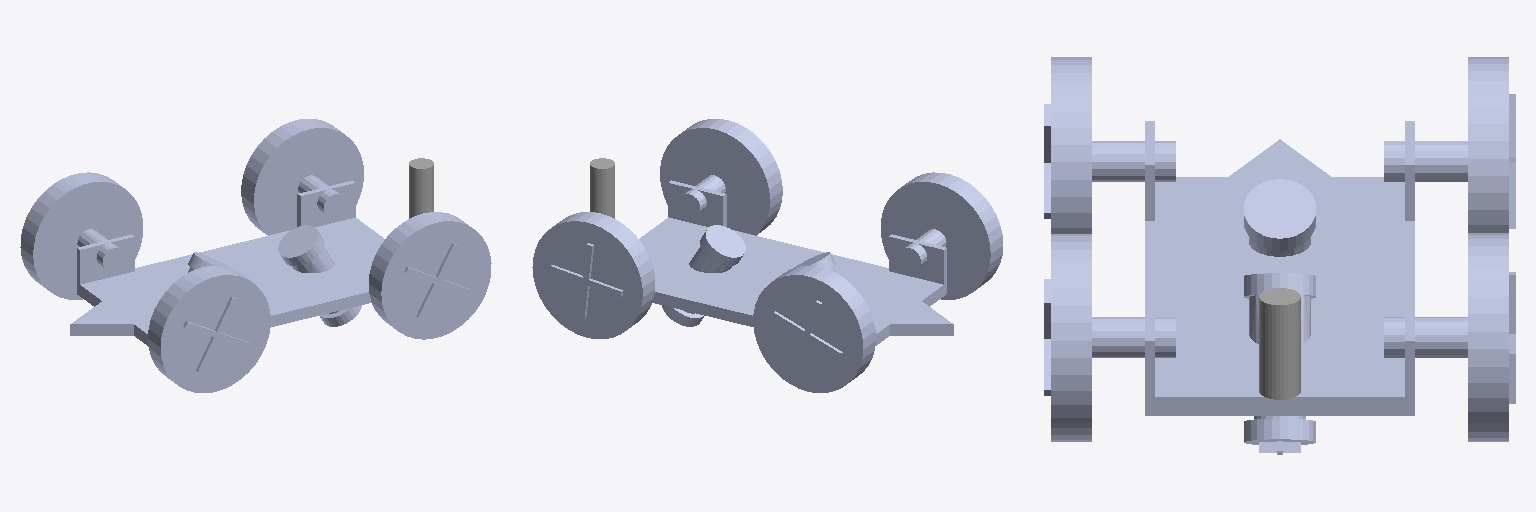
URDF robot description (farm_bot_urdf):
<?xml version="1.0" encoding="utf-8"?>
<!-- This URDF was automatically created by SolidWorks to URDF Exporter! Originally created by [author] ([email redacted]) 
     Commit Version: 1.6.0-1-g15f4949  Build Version: 1.6.7594.29634
     For more information, please see http://wiki.ros.org/sw_urdf_exporter -->
<robot
  name="farm_bot_urdf">
  <link
    name="base_link">
    <inertial>
      <origin
        xyz="-0.00413302315404124 0.00666211969872622 -8.65044041209199E-11"
        rpy="0 0 0" />
      <mass
        value="0.365211098963578" />
      <inertia
        ixx="0.000587851832472422"
        ixy="-2.5088865580259E-06"
        ixz="-1.85797674499311E-11"
        iyy="0.00275979469789039"
        iyz="-3.06654702051706E-13"
        izz="0.00220629413672777" />
    </inertial>
    <visual>
      <origin
        xyz="0 0 0"
        rpy="0 0 0" />
      <geometry>
        <mesh
          filename="package://farm_bot/meshes/base_link.STL" />
      </geometry>
      <material
        name="">
        <color
          rgba="0.792156862745098 0.819607843137255 0.933333333333333 1" />
      </material>
    </visual>
    <collision>
      <origin
        xyz="0 0 0"
        rpy="0 0 0" />
      <geometry>
        <mesh
          filename="package://farm_bot/meshes/base_link.STL" />
      </geometry>
    </collision>
  </link>
  <link
    name="piston front">
    <inertial>
      <origin
        xyz="1.38777878078145E-17 3.43680040246323E-17 0.0304789370624094"
        rpy="0 0 0" />
      <mass
        value="0.0492496861306418" />
      <inertia
        ixx="3.61940839038542E-05"
        ixy="-6.38007239207329E-23"
        ixz="-3.17637355220363E-21"
        iyy="3.61940839038542E-05"
        iyz="-5.03314590811531E-21"
        izz="5.26782397919921E-06" />
    </inertial>
    <visual>
      <origin
        xyz="0 0 0"
        rpy="0 0 0" />
      <geometry>
        <mesh
          filename="package://farm_bot/meshes/piston front.STL" />
      </geometry>
      <material
        name="">
        <color
          rgba="0.792156862745098 0.819607843137255 0.933333333333333 1" />
      </material>
    </visual>
    <collision>
      <origin
        xyz="0 0 0"
        rpy="0 0 0" />
      <geometry>
        <mesh
          filename="package://farm_bot/meshes/piston front.STL" />
      </geometry>
    </collision>
  </link>
  <joint
    name="piston1"
    type="prismatic">
    <origin
      xyz="-0.043301 0 0.025"
      rpy="-3.1416 -0.5236 3.1416" />
    <parent
      link="base_link" />
    <child
      link="piston front" />
    <axis
      xyz="0 0 1" />
    <limit
      lower="-0.06"
      upper="0"
      effort="0"
      velocity="0" />
  </joint>
  <link
    name="piston rear">
    <inertial>
      <origin
        xyz="6.93889390390723E-18 -1.85814245279061E-17 0.0304789370624093"
        rpy="0 0 0" />
      <mass
        value="0.0492496861306418" />
      <inertia
        ixx="3.61940839038542E-05"
        ixy="2.45808401609207E-24"
        ixz="-1.6940658945086E-21"
        iyy="3.61940839038542E-05"
        iyz="-2.46741021972222E-21"
        izz="5.2678239791992E-06" />
    </inertial>
    <visual>
      <origin
        xyz="0 0 0"
        rpy="0 0 0" />
      <geometry>
        <mesh
          filename="package://farm_bot/meshes/piston rear.STL" />
      </geometry>
      <material
        name="">
        <color
          rgba="0.792156862745098 0.819607843137255 0.933333333333333 1" />
      </material>
    </visual>
    <collision>
      <origin
        xyz="0 0 0"
        rpy="0 0 0" />
      <geometry>
        <mesh
          filename="package://farm_bot/meshes/piston rear.STL" />
      </geometry>
    </collision>
  </link>
  <joint
    name="piston2"
    type="prismatic">
    <origin
      xyz="0.043301 0 0.025"
      rpy="3.1416 0.5236 3.1416" />
    <parent
      link="base_link" />
    <child
      link="piston rear" />
    <axis
      xyz="0 0 1" />
    <limit
      lower="-0.06"
      upper="0"
      effort="0"
      velocity="0" />
  </joint>
  <link
    name="wheel right front">
    <inertial>
      <origin
        xyz="-0.0481728034412505 0 1.38777878078145E-17"
        rpy="0 0 0" />
      <mass
        value="0.170342906048753" />
      <inertia
        ixx="0.000197594540802262"
        ixy="5.82461381845058E-21"
        ixz="4.09496689598892E-21"
        iyy="0.000115040014294501"
        iyz="-1.35525271560688E-20"
        izz="0.000115040014294501" />
    </inertial>
    <visual>
      <origin
        xyz="0 0 0"
        rpy="0 0 0" />
      <geometry>
        <mesh
          filename="package://farm_bot/meshes/wheel right front.STL" />
      </geometry>
      <material
        name="">
        <color
          rgba="0.792156862745098 0.819607843137255 0.933333333333333 1" />
      </material>
    </visual>
    <collision>
      <origin
        xyz="0 0 0"
        rpy="0 0 0" />
      <geometry>
        <mesh
          filename="package://farm_bot/meshes/wheel right front.STL" />
      </geometry>
    </collision>
  </link>
  <joint
    name="wheel_right_front"
    type="continuous">
    <origin
      xyz="-0.1 -0.05 0.03"
      rpy="-2.0772 0 1.5708" />
    <parent
      link="base_link" />
    <child
      link="wheel right front" />
    <axis
      xyz="1 0 0" />
      <limit
      upper="3.14"
      lower="0.0"
      effort="20"
      velocity="100" />
  </joint>
  <link
    name="wheel left front">
    <inertial>
      <origin
        xyz="-0.0481728034412505 0 6.93889390390723E-18"
        rpy="0 0 0" />
      <mass
        value="0.170342906048753" />
      <inertia
        ixx="0.000197594540802262"
        ixy="3.460241947874E-21"
        ixz="-8.60047549874402E-21"
        iyy="0.000115040014294501"
        iyz="0"
        izz="0.000115040014294501" />
    </inertial>
    <visual>
      <origin
        xyz="0 0 0"
        rpy="0 0 0" />
      <geometry>
        <mesh
          filename="package://farm_bot/meshes/wheel left front.STL" />
      </geometry>
      <material
        name="">
        <color
          rgba="0.792156862745098 0.819607843137255 0.933333333333333 1" />
      </material>
    </visual>
    <collision>
      <origin
        xyz="0 0 0"
        rpy="0 0 0" />
      <geometry>
        <mesh
          filename="package://farm_bot/meshes/wheel left front.STL" />
      </geometry>
    </collision>
  </link>
  <joint
    name="wheel_left_front"
    type="continuous">
    <origin
      xyz="-0.1 0.05 0.03"
      rpy="2.8045 0 -1.5708" />
    <parent
      link="base_link" />
    <child
      link="wheel left front" />
    <axis
      xyz="-1 0 0" />
     <limit
      upper="3.14"
      lower="0.0"
      effort="20"
      velocity="100" />
  </joint>
  <link
    name="wheel left rear">
    <inertial>
      <origin
        xyz="-0.0481728034412505 0 2.08166817117217E-17"
        rpy="0 0 0" />
      <mass
        value="0.170342906048753" />
      <inertia
        ixx="0.000197594540802262"
        ixy="1.01865426869992E-21"
        ixz="1.18042317166485E-20"
        iyy="0.000115040014294501"
        iyz="5.0821976835258E-21"
        izz="0.000115040014294501" />
    </inertial>
    <visual>
      <origin
        xyz="0 0 0"
        rpy="0 0 0" />
      <geometry>
        <mesh
          filename="package://farm_bot/meshes/wheel left rear.STL" />
      </geometry>
      <material
        name="">
        <color
          rgba="0.792156862745098 0.819607843137255 0.933333333333333 1" />
      </material>
    </visual>
    <collision>
      <origin
        xyz="0 0 0"
        rpy="0 0 0" />
      <geometry>
        <mesh
          filename="package://farm_bot/meshes/wheel left rear.STL" />
      </geometry>
    </collision>
  </link>
  <joint
    name="wheel_left_rear"
    type="continuous">
    <origin
      xyz="0.1 0.05 0.03"
      rpy="-3.0288 0 -1.5708" />
    <parent
      link="base_link" />
    <child
      link="wheel left rear" />
    <axis
      xyz="-1 0 0" />
     <limit
      upper="3.14"
      lower="0.0"
      effort="20"
      velocity="100" />
  </joint>
  <link
    name="wheel right rear">
    <inertial>
      <origin
        xyz="-0.0481728034412505 -1.38777878078145E-17 5.55111512312578E-17"
        rpy="0 0 0" />
      <mass
        value="0.170342906048753" />
      <inertia
        ixx="0.000197594540802262"
        ixy="1.33989645938052E-20"
        ixz="2.19619835461011E-22"
        iyy="0.000115040014294501"
        iyz="-3.72694496791892E-20"
        izz="0.000115040014294501" />
    </inertial>
    <visual>
      <origin
        xyz="0 0 0"
        rpy="0 0 0" />
      <geometry>
        <mesh
          filename="package://farm_bot/meshes/wheel right rear.STL" />
      </geometry>
      <material
        name="">
        <color
          rgba="0.792156862745098 0.819607843137255 0.933333333333333 1" />
      </material>
    </visual>
    <collision>
      <origin
        xyz="0 0 0"
        rpy="0 0 0" />
      <geometry>
        <mesh
          filename="package://farm_bot/meshes/wheel right rear.STL" />
      </geometry>

    </collision>
  </link>
  <joint
    name="wheel_right_rear"
    type="continuous">
    <origin
      xyz="0.1 -0.05 0.03"
      rpy="-2.0959 0 1.5708" />
    <parent
      link="base_link" />
    <child
      link="wheel right rear" />
    <axis
      xyz="1 0 0" />
     <limit
      upper="3.14"
      lower="0.0"
      effort="20"
      velocity="100" />
  </joint>
  <link name="sensor_laser">
    <inertial>
      <origin xyz="0 0 0" rpy="0 0 0" />
      <mass value="1" />
      <!-- RANDOM INERTIA BELOW -->
      <inertia ixx="0.02" ixy="0" ixz="0" iyy="0.02" iyz="0" izz="0.02"/>
    </inertial>

   <visual>
      <origin xyz="0 0 0" rpy="0 0 0"/>
      <geometry>
      <cylinder radius="0.01" length="0.05"/> 
      </geometry>
    </visual>

    <collision>
      <origin xyz="0 0 0" rpy="0 0 0"/>
      <geometry>
        <cylinder radius="0.01" length="0.05"/>
      </geometry>
    </collision>
  </link>
  <joint name="joint_sensor_laser" type="fixed">
    <origin xyz="0.15 0 0.05" rpy="0 0 0"/>
    <parent link="base_link"/>
    <child link="sensor_laser"/>
  </joint>
  <gazebo>
  <plugin name="gazebo_ros_control" filename="libgazebo_ros_control.so">
    <robotNamespace>/simple_model</robotNamespace>
  </plugin>
</gazebo>
<gazebo reference="sensor_laser">
    <sensor type="ray" name="head_hokuyo_sensor">
      <pose>0 0 0 0 0 0</pose>
      <always_on>1</always_on> 
      <visualize>true</visualize>
      <update_rate>2</update_rate>            <!-- 20-->
      <ray>
        <scan>
          <horizontal>
            <samples>500</samples>
            <resolution>1</resolution>
            <min_angle>-1.04666667</min_angle>
	    <max_angle>1.04666667</max_angle>
          </horizontal>
        </scan>
        <range>
          <min>0.10</min>
          <max>0.5</max>
          <resolution>0.01</resolution>
        </range>
        <noise>
          <type>gaussian</type>
          <mean>0.0</mean>
          <stddev>0.01</stddev>
        </noise>
      </ray>
      <plugin name="gazebo_ros_head_hokuyo_controller" filename="libgazebo_ros_laser.so">
        <topicName>/simple_model/laser/scan</topicName>
        <frameName>sensor_laser</frameName>
      </plugin>
    </sensor>
  </gazebo>
  
 <!-- _______________IMU Link_________________ -->
     <link name="imu_link">
    <visual>
      <geometry>
        <box size="1e-6 1e-6 1e-6"/>
      </geometry>
    </visual>
    <collision>
      <geometry>
        <box size="1e-6 1e-6 1e-6"/>
      </geometry>
    </collision>
    <inertial>
      <mass value="1e-5" />
      <origin xyz="0 0 0" rpy="0 0 0"/>
      <inertia ixx="1e-6" ixy="0" ixz="0" iyy="1e-6" iyz="0" izz="1e-6" />
    </inertial>
  </link>
 <joint name="joint_imu" type="fixed">
  <origin xyz="-0.08 0 0.07" rpy="0 0 0"/>
  <parent link="base_link"/>
  <child link="imu_link"/>
</joint>

<!--_____________IMU plugin_________________ 
  <gazebo reference="imu_link">
    <gravity>true</gravity>
    <sensor name="imu_sensor" type="imu">
      <always_on>true</always_on>
      <update_rate>100</update_rate>
      <visualize>true</visualize>
      <topic>_default_topic_</topic>
      <plugin filename="libgazebo_ros_imu_sensor.so" name="imu_plugin">
        <topicName>imu</topicName>
        <bodyName>imu_link</bodyName>
        <updateRateHZ>10.0</updateRateHZ>
        <gaussianNoise>0.0</gaussianNoise>
        <xyzOffset>0 0 0</xyzOffset>
        <rpyOffset>0 0 0</rpyOffset>
        <frameName>imu_link</frameName>
      </plugin>
      <pose>0 0 0 0 0 0</pose>
    </sensor>
  </gazebo> -->
  
  
  <gazebo reference="imu_link">
    <gravity>true</gravity>
    <sensor name="imu_sensor" type="imu">
      <always_on>true</always_on>
      <update_rate>2</update_rate>         <!-- 5-->
      <visualize>true</visualize>
      <topic>_default_topic_</topic>
      <plugin filename="libgazebo_ros_imu_sensor.so" name="imu_plugin">
        <topicName>imu</topicName>
        <bodyName>imu_link</bodyName>
        <updateRateHZ>5.0</updateRateHZ>
        <gaussianNoise>0.0</gaussianNoise>
        <xyzOffset>0 0 0</xyzOffset>
        <rpyOffset>0 0 1.57</rpyOffset>
        <frameName>imu_link</frameName>
        <initialOrientationAsReference>false</initialOrientationAsReference>
      </plugin>
      <pose>0 0 0 0 0 0</pose>
    </sensor>
  </gazebo>
<!--<gazebo>  
  <plugin name="gps_controller" filename="libhector_gazebo_ros_gps.so">
    <alwayson>true</alwayson>
    <updaterate>1.0</updaterate>
    <bodyname>base_link</bodyname>
    <topicname>/fix</topicname>
    <velocitytopicname>/fix_velocity</velocitytopicname>
    <drift>5.0 5.0 5.0</drift>
    <gaussiannoise>0.1 0.1 0.1</gaussiannoise>
    <velocitydrift>0 0 0</velocitydrift>
    <velocitygaussiannoise>0.1 0.1 0.1</velocitygaussiannoise>
</plugin>
</gazebo> -->
<gazebo>
       <plugin name="gps" filename="libhector_gazebo_ros_gps.so">  
      <updateRate>2</updateRate>  <!-- 10.0 -->
      <topicName>sensor_msgs/NavSatFix</topicName>  
      <gaussianNoise>0.0 0.0 0.0</gaussianNoise>  
      <offset>0 0 0</offset>  
      <velocityGaussianNoise>0 0 0</velocityGaussianNoise>  
      <frameId>base_link</frameId>  
    </plugin>
    </gazebo>
<transmission name="tran1">
    <type>transmission_interface/SimpleTransmission</type>
    <joint name="wheel_left_front">
      <hardwareInterface>hardware_interface/EffortJointInterface</hardwareInterface>
    </joint>
    <actuator name="motor1">
      <hardwareInterface>hardware_interface/EffortJointInterface</hardwareInterface>
      <mechanicalReduction>1</mechanicalReduction>
    </actuator>
  </transmission>

  <transmission name="tran2">
    <type>transmission_interface/SimpleTransmission</type>
    <joint name="wheel_right_front">
      <hardwareInterface>hardware_interface/EffortJointInterface</hardwareInterface>
    </joint>
    <actuator name="motor2">
      <hardwareInterface>hardware_interface/EffortJointInterface</hardwareInterface>
      <mechanicalReduction>1</mechanicalReduction>
    </actuator>
  </transmission>
  <transmission name="tran3">
    <type>transmission_interface/SimpleTransmission</type>
    <joint name="wheel_left_rear">
      <hardwareInterface>hardware_interface/EffortJointInterface</hardwareInterface>
    </joint>
    <actuator name="motor3">
      <hardwareInterface>hardware_interface/EffortJointInterface</hardwareInterface>
      <mechanicalReduction>1</mechanicalReduction>
    </actuator>
  </transmission>

  <transmission name="tran4">
    <type>transmission_interface/SimpleTransmission</type>
    <joint name="wheel_right_rear">
      <hardwareInterface>hardware_interface/EffortJointInterface</hardwareInterface>
    </joint>
    <actuator name="motor4">
      <hardwareInterface>hardware_interface/EffortJointInterface</hardwareInterface>
      <mechanicalReduction>1</mechanicalReduction>
    </actuator>
  </transmission>
</robot>
  

--- Facts derived from the render (not from the file) ---
Views: 3 orthographic renders of the robot side by side, from view 1: azimuth 30°, elevation 25°; view 2: azimuth 150°, elevation 25°; view 3: azimuth 270°, elevation 25°.
Robot: farm_bot_urdf — 9 links, 8 joints (4 continuous, 2 prismatic, 2 fixed); root link base_link; default pose: every joint at zero.
Links seen in each view (by area): view 1: base_link, wheel right front, wheel right rear, wheel left front, wheel left rear, piston rear, sensor_laser; view 2: base_link, wheel left front, wheel left rear, wheel right front, wheel right rear, piston rear, sensor_laser; view 3: base_link, wheel left rear, wheel right rear, wheel left front, wheel right front, sensor_laser, piston front, piston rear.
Boxes of the visible links, bbox=[...] form: base_link: bbox=[70, 181, 384, 346]; wheel right front: bbox=[148, 266, 270, 392]; wheel right rear: bbox=[369, 212, 491, 339]; wheel left front: bbox=[20, 172, 142, 299]; wheel left rear: bbox=[241, 119, 363, 235]; piston rear: bbox=[278, 225, 361, 326]; sensor_laser: bbox=[409, 158, 433, 218]; base_link: bbox=[639, 180, 953, 345]; wheel left front: bbox=[753, 266, 875, 392]; wheel left rear: bbox=[532, 212, 654, 338]; wheel right front: bbox=[881, 172, 1002, 299]; wheel right rear: bbox=[660, 119, 782, 235]; piston rear: bbox=[662, 225, 745, 326]; sensor_laser: bbox=[590, 158, 614, 218]; base_link: bbox=[1145, 121, 1414, 415]; wheel left rear: bbox=[1384, 233, 1515, 441]; wheel right rear: bbox=[1044, 234, 1175, 441]; wheel left front: bbox=[1384, 57, 1515, 232]; wheel right front: bbox=[1044, 57, 1175, 233]; sensor_laser: bbox=[1259, 288, 1300, 399]; piston front: bbox=[1244, 179, 1315, 250]; piston rear: bbox=[1244, 273, 1315, 454].
Bounding box of the posed robot: 0.3283 × 0.226 × 0.1249 m (x, y, z).
Meshes: 7 distinct files referenced, 7 mesh visuals loaded (7 binary STL).
